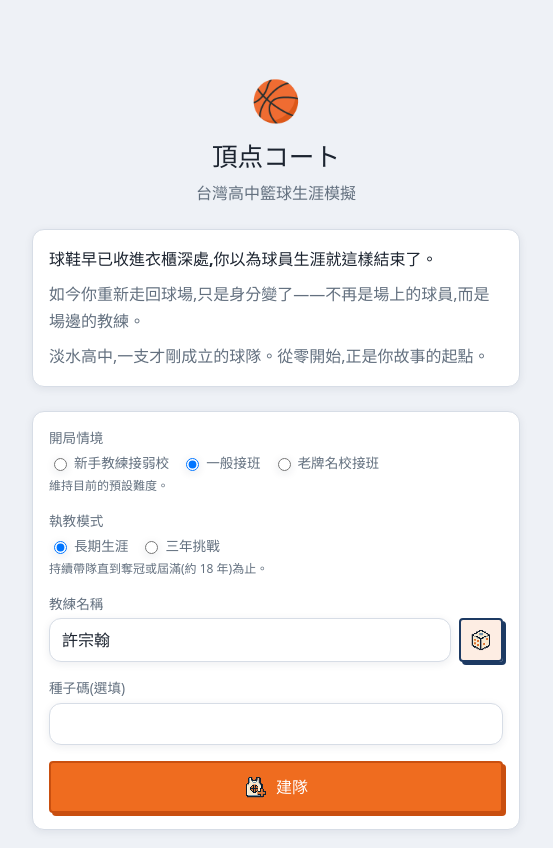
App › starts with a higher reputation when the 老牌名校接班 starting scenario is chosen
The width and height of the screenshot is (553, 848).
Replace the text in the field labelled "教練名稱" with "山田" at (250, 640), box x1=49 y1=618 x2=451 y2=662
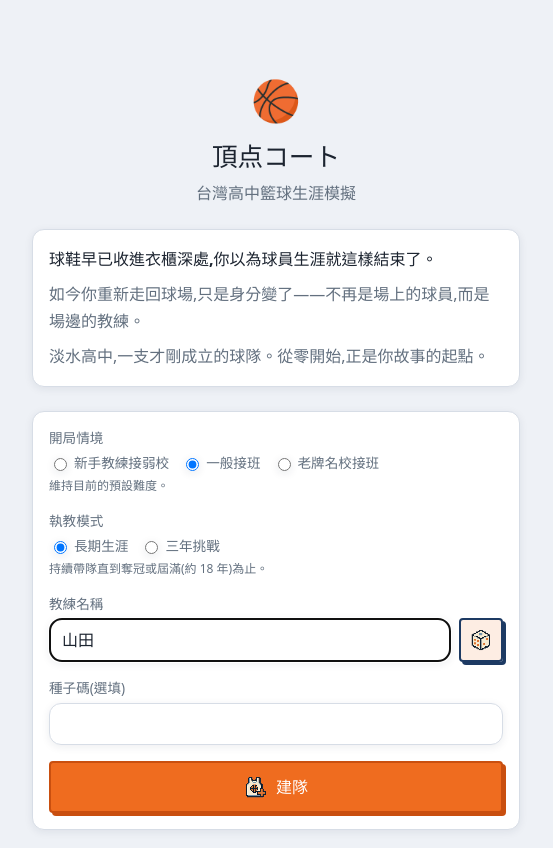
Click the radio button labelled "老牌名校接班" at (284, 464), box x1=278 y1=458 x2=290 y2=471
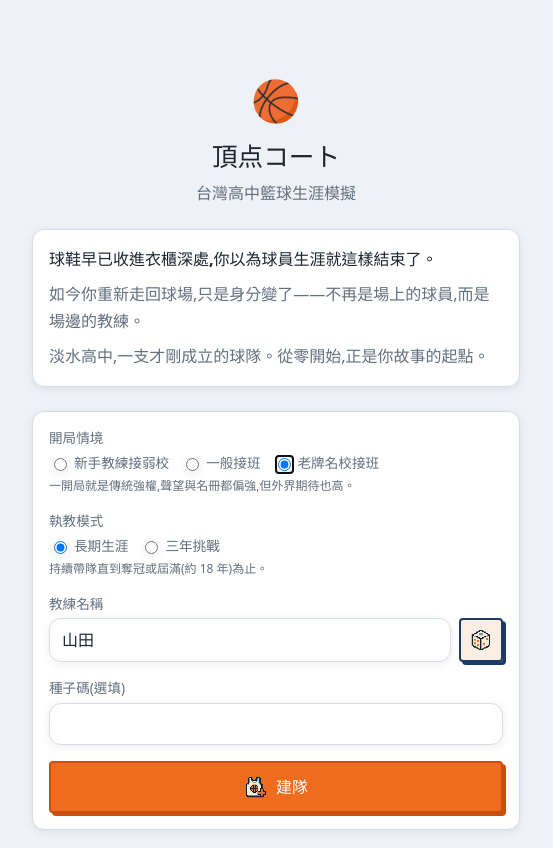
Click the button "建隊" at (276, 787), box x1=49 y1=761 x2=503 y2=813
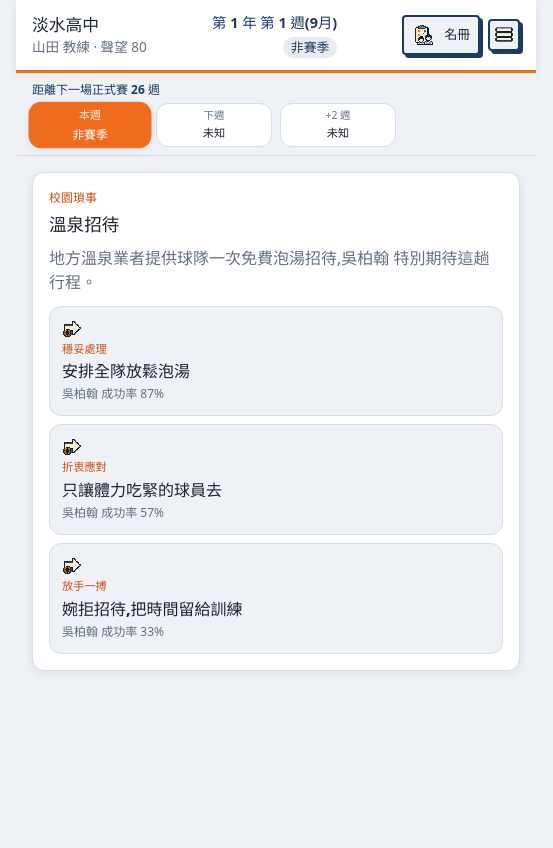
expect the text "山田 教練 · 聲望 80" is shown: met, box x1=32 y1=37 x2=147 y2=58
